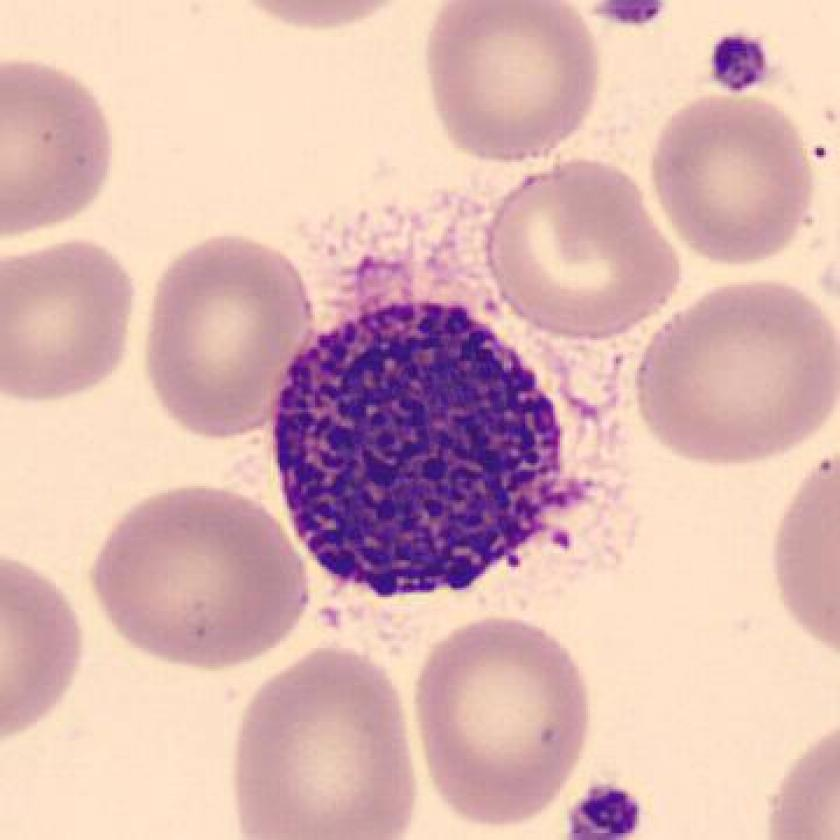basophil: (267, 299, 577, 612)
